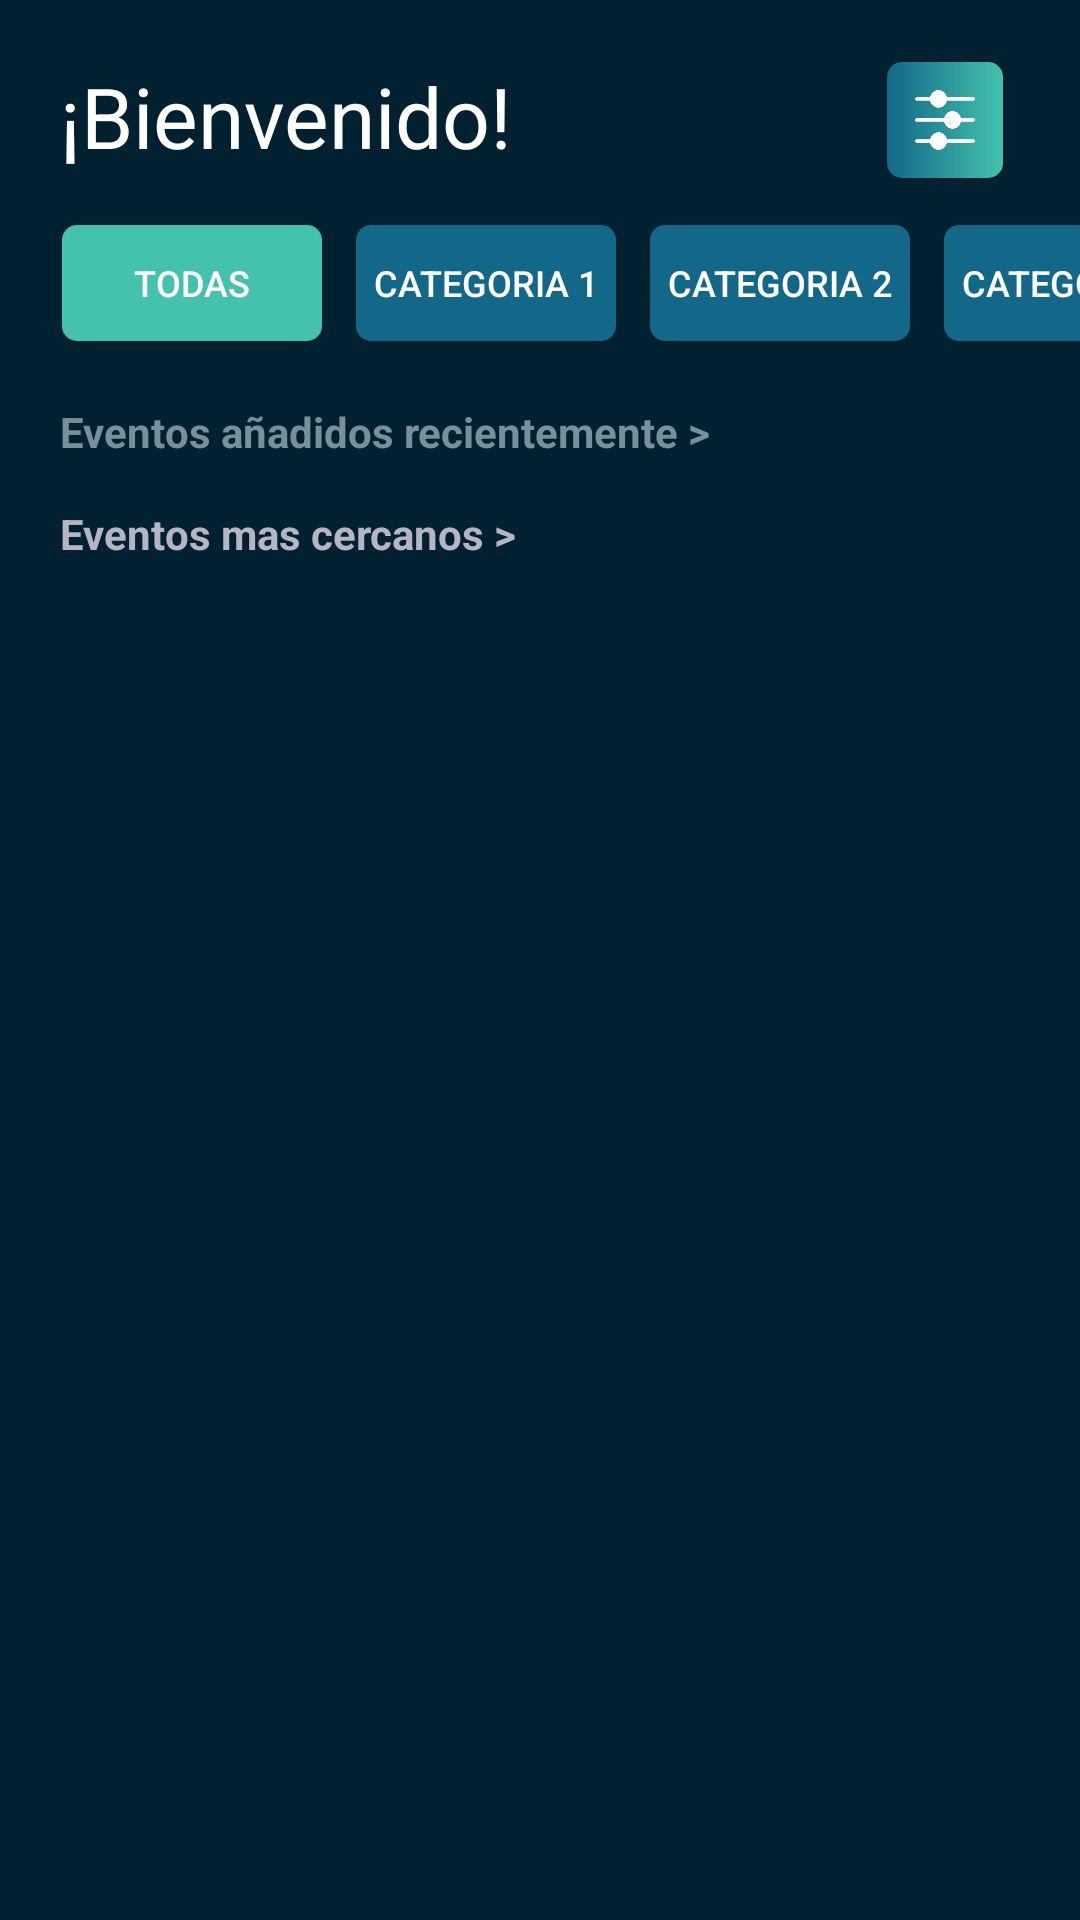

Named icons in this screenshot (1080×1920) and their centers, (x,y):
filters: (945,120)
